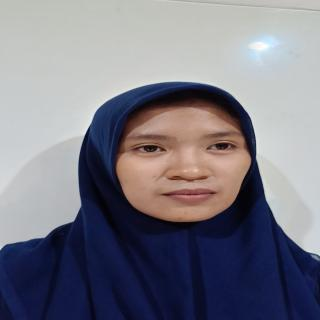Netral: (107, 98, 270, 227)
